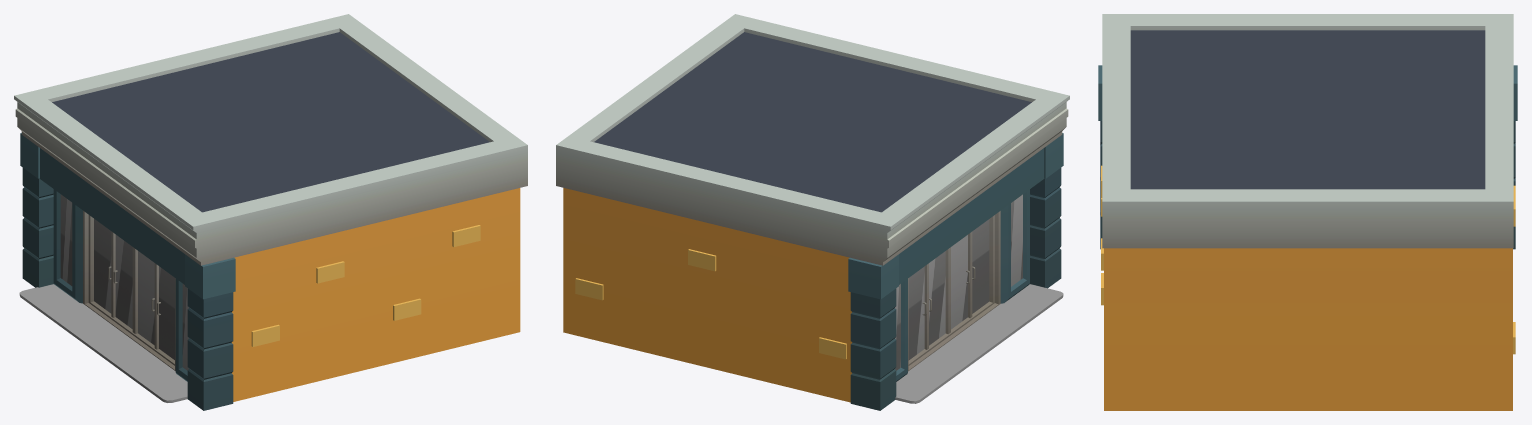
Rendered from Building_21_5_B.fbx.
The picture shows the model from 3 angles, left to right: view 1: azimuth 30°, elevation 25°; view 2: azimuth 150°, elevation 25°; view 3: azimuth 270°, elevation 25°; orthographic projection. The views are drawn at different scales.
Parts seen in each view (by area): view 1: Building_21_5_B; view 2: Building_21_5_B; view 3: Building_21_5_B.
Boxes of the visible parts, <box> form: Building_21_5_B: <box>14,14,527,410</box>; Building_21_5_B: <box>556,14,1069,410</box>; Building_21_5_B: <box>1098,14,1517,410</box>.
Size of the model in its own units: 779 by 400 by 713.
